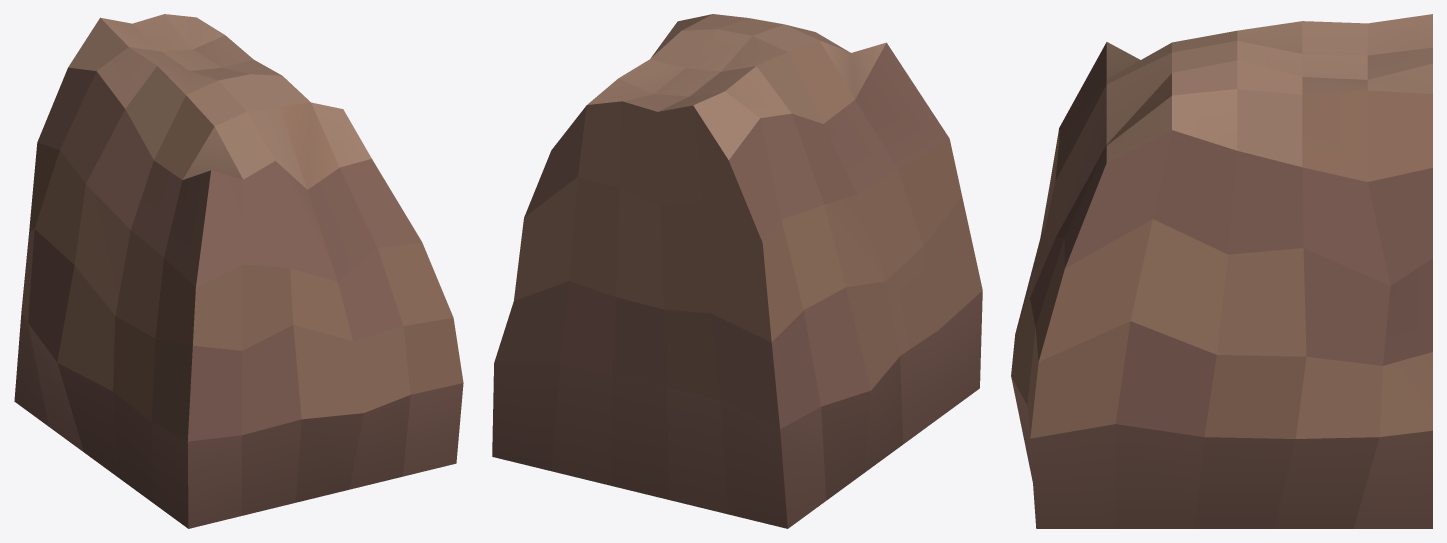
Rendered from roca_punta_3.glb.
3 renders of one model, left to right at view 1: azimuth 30°, elevation 25°; view 2: azimuth 150°, elevation 25°; view 3: azimuth 270°, elevation 25°, orthographic. The views are drawn at different scales.
Visible parts, largest first — view 1: propforge-cuartos-roca_punta; view 2: propforge-cuartos-roca_punta; view 3: propforge-cuartos-roca_punta.
Boxes of the visible parts, box(x1,y1,x2,y2) form: propforge-cuartos-roca_punta: box(14, 14, 463, 528); propforge-cuartos-roca_punta: box(492, 14, 982, 528); propforge-cuartos-roca_punta: box(1011, 14, 1432, 528).
Bounding box in the file's own units: 0.884 × 1.04 × 0.9572.
